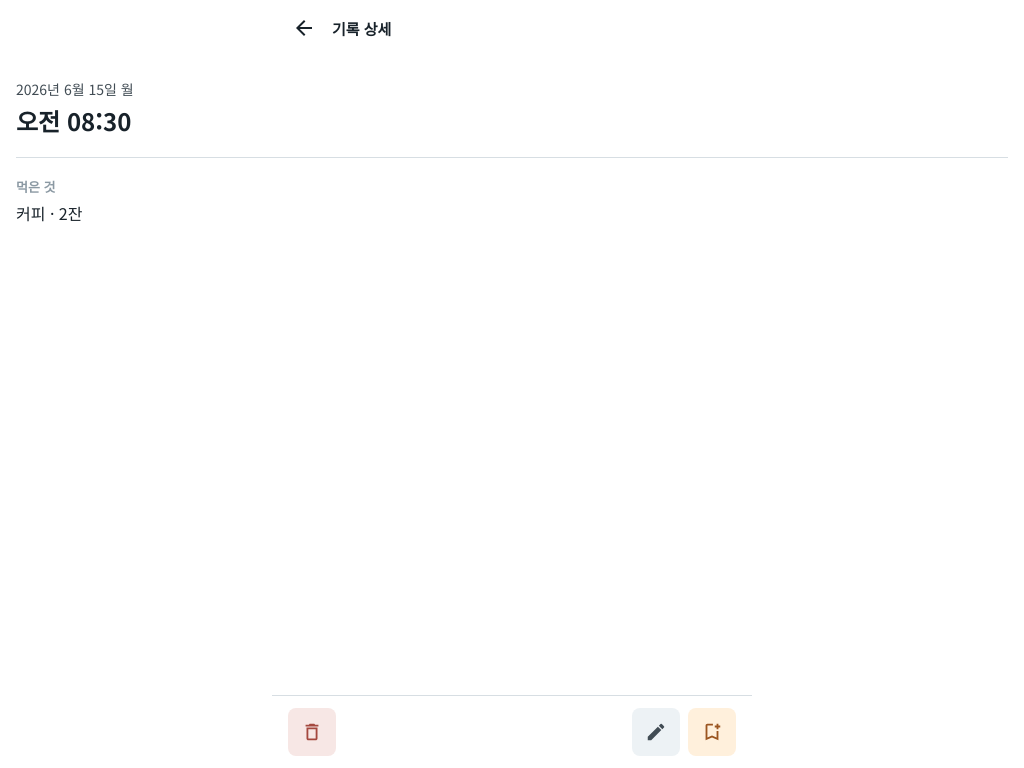
Test: RecordDetailPageClient › adds the current record to favorites with a title
Click the button named "즐겨찾기 추가".
click(712, 732)  # box [688,708,736,756]
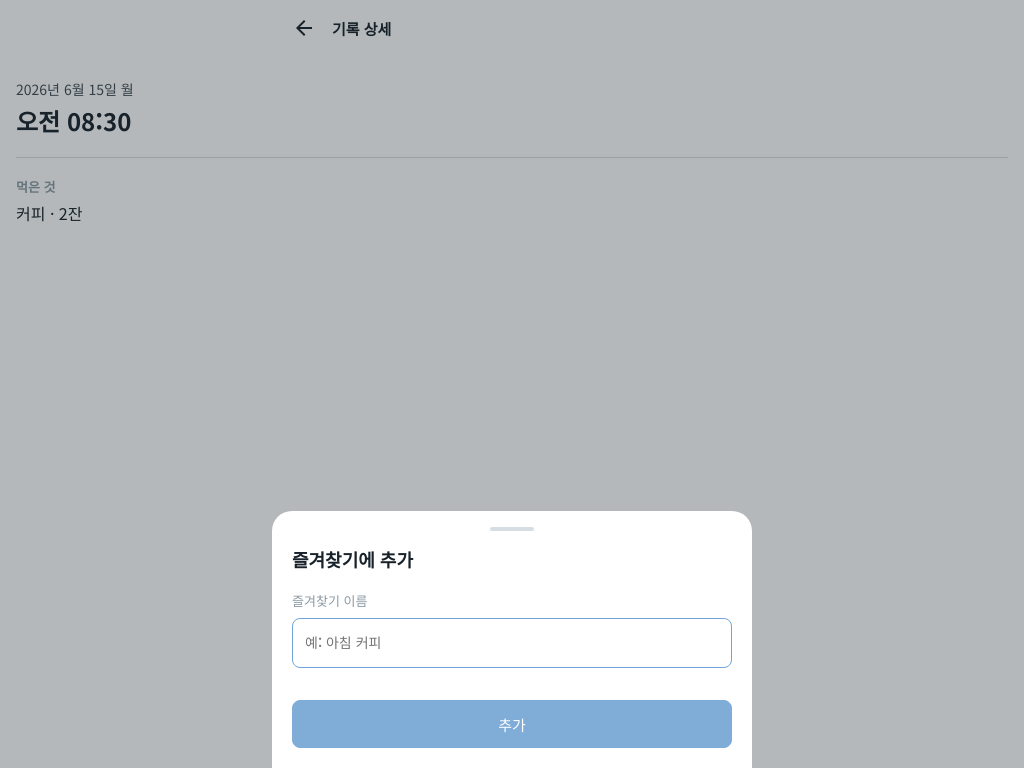
Type "아침 커피" into the field labelled "즐겨찾기 이름".
click(512, 643); type("아침 커피")  # box [293,619,731,667]
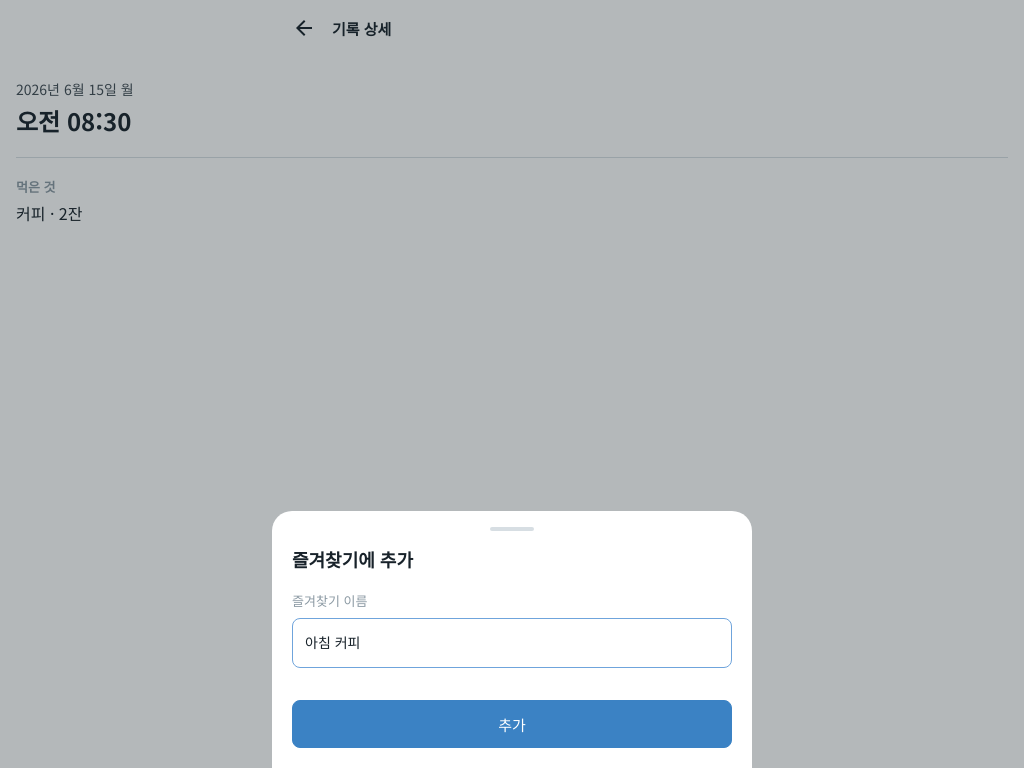
Click the button "추가".
click(512, 724)  # box [292,700,732,748]
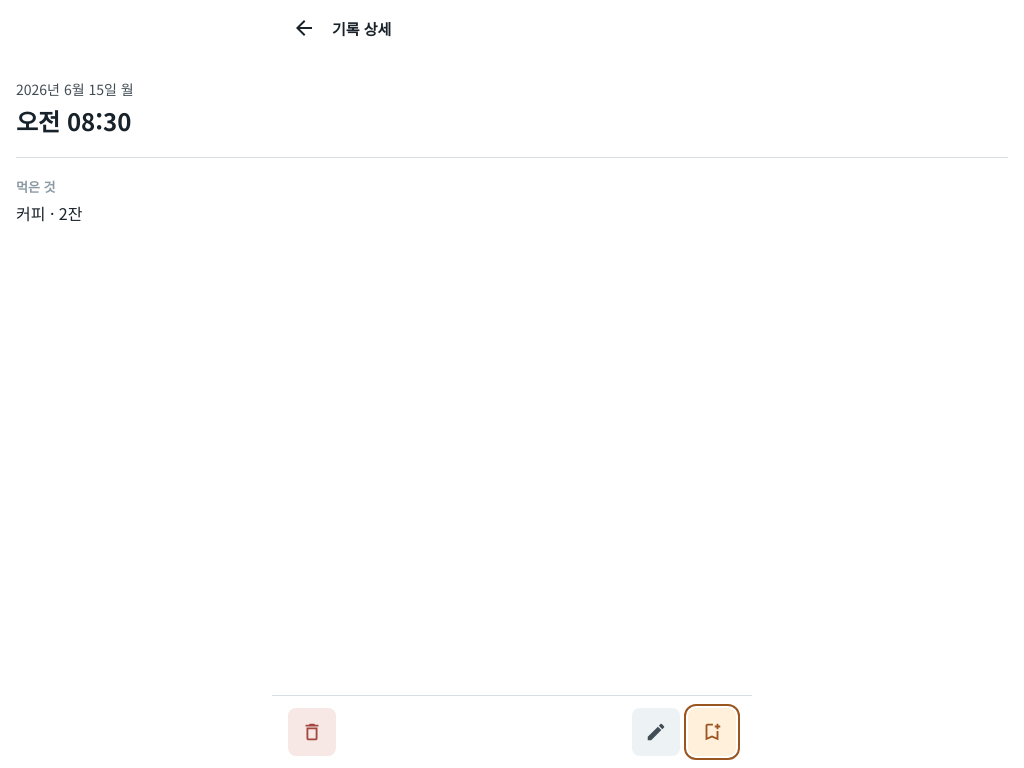
Check: the heading "즐겨찾기에 추가" is gone
